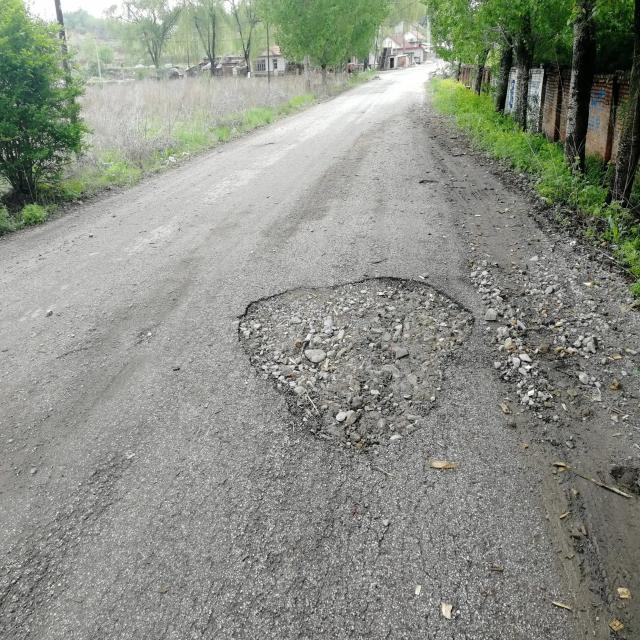Pothole: (228, 261, 482, 460), (416, 171, 439, 194)
